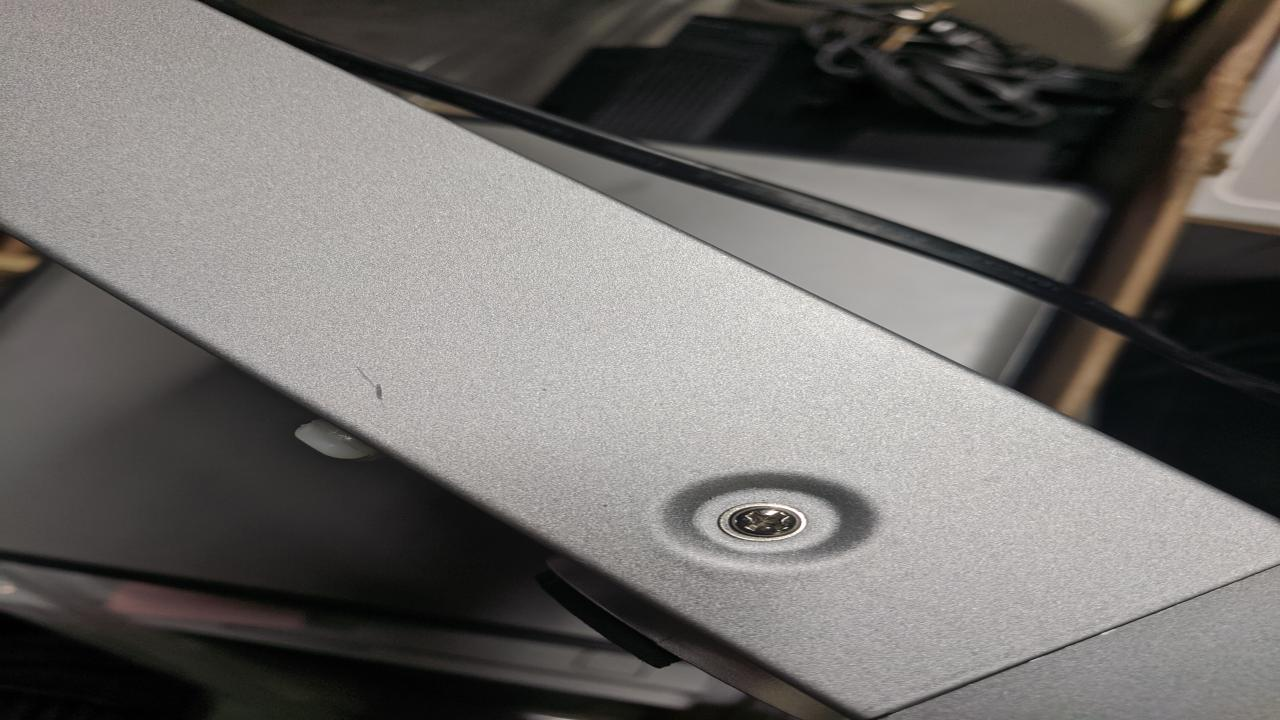CRS: (721, 508, 806, 537)
